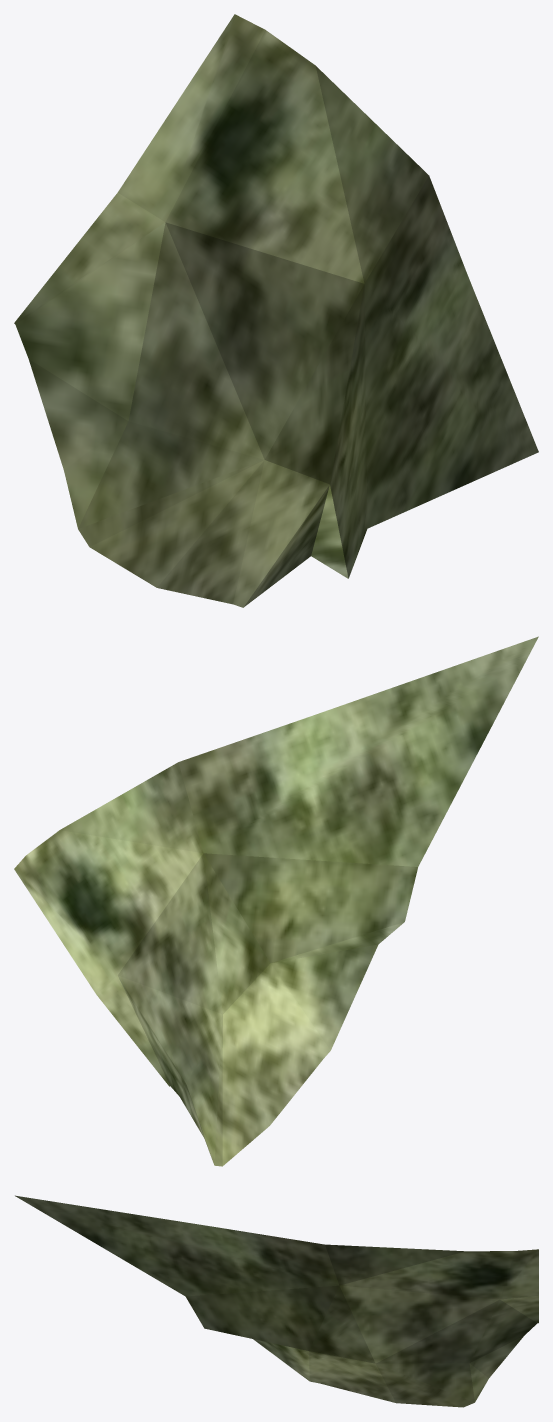
3 renders of one model, top to bottom at view 1: azimuth 30°, elevation 25°; view 2: azimuth 150°, elevation 25°; view 3: azimuth 270°, elevation 25°, orthographic. The views are drawn at different scales.
Size of the model in its own units: 0.5941 by 1.05 by 2.36.
1 material, 1 textured.
